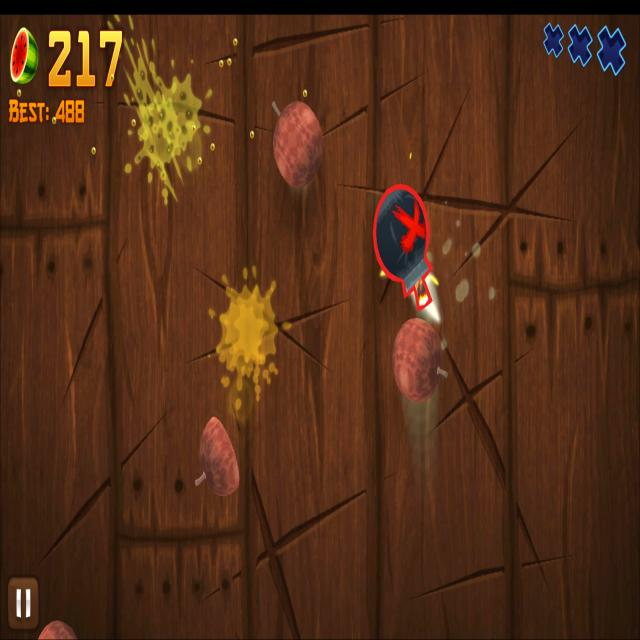bomb: (372, 182, 434, 314)
fruit: (273, 99, 324, 189), (392, 317, 441, 402)
